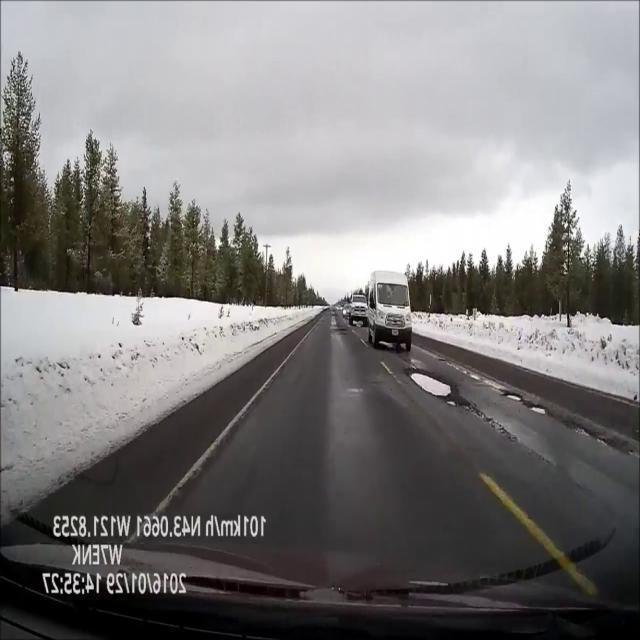pothole: (406, 368, 459, 408), (503, 390, 523, 404), (528, 402, 546, 416), (333, 327, 347, 332), (332, 313, 337, 317)
